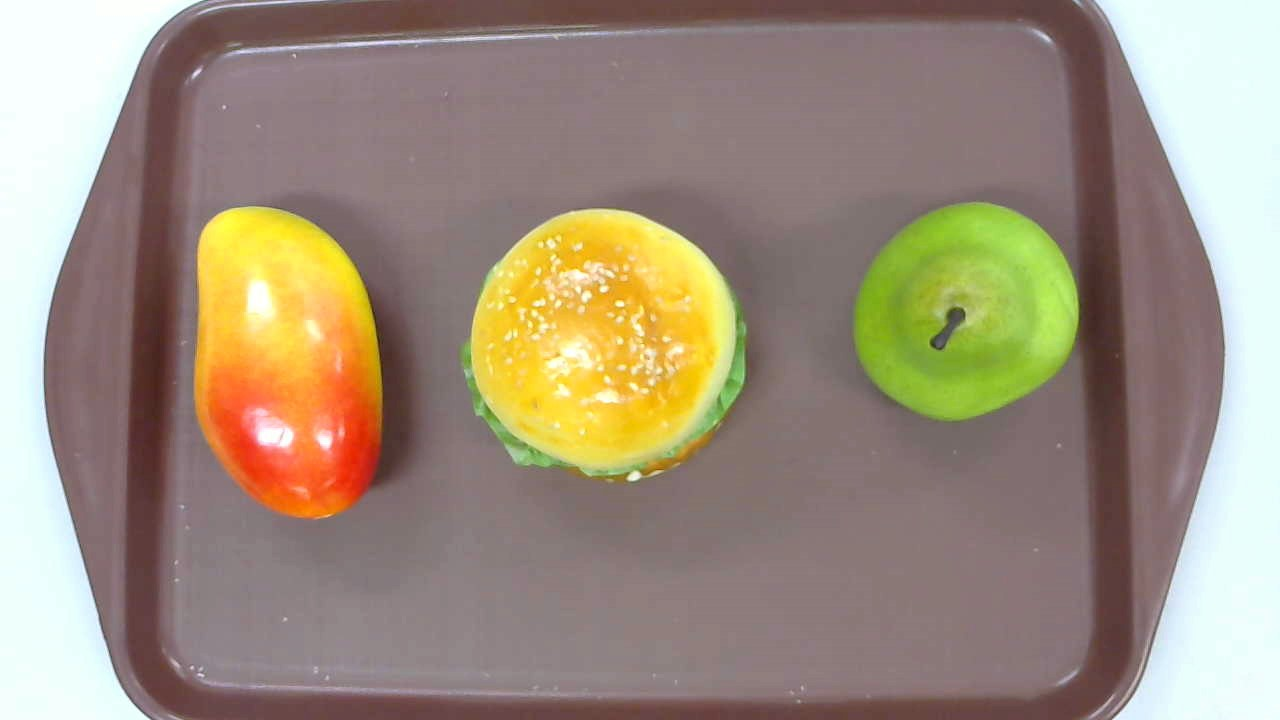green pear: (849, 200, 1078, 424)
hamburger: (461, 208, 747, 484)
red mango: (194, 204, 382, 520)
